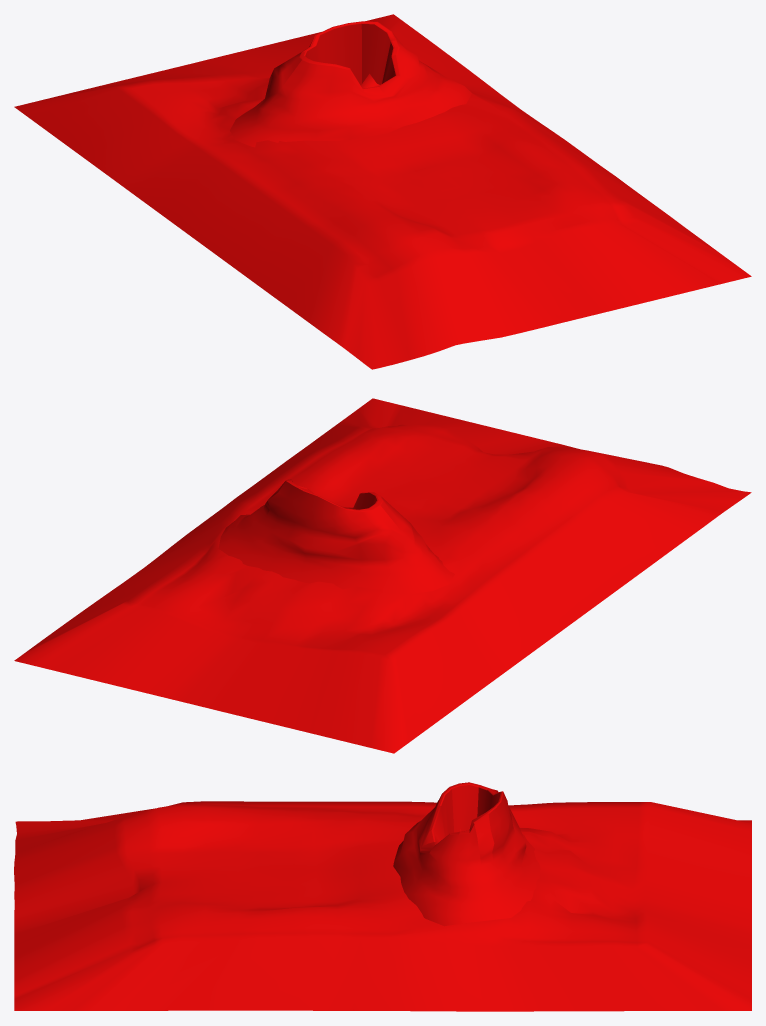
3 views of the same model, one above another, from view 1: azimuth 30°, elevation 25°; view 2: azimuth 150°, elevation 25°; view 3: azimuth 270°, elevation 25° (orthographic). The views are drawn at different scales.
Visible parts, largest first — view 1: terraine_volcano2; view 2: terraine_volcano2; view 3: terraine_volcano2.
Boxes of the visible parts, x1,y1,x2,y2 form: terraine_volcano2: [14, 14, 751, 369]; terraine_volcano2: [14, 398, 751, 753]; terraine_volcano2: [14, 782, 751, 1011].
Bounding box in the file's own units: 580 × 181 × 948.
